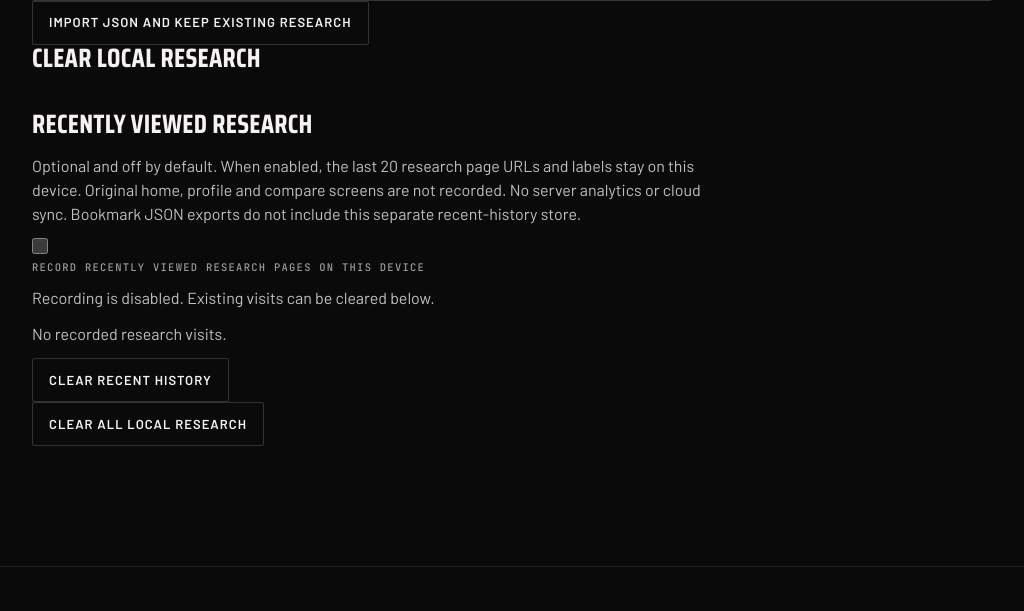
it: My NBA preferences journey › requires local history opt-in and clears all history/consent with confirmed local reset
(page scrolled)
What coordinates should you click on to do the following:
click the checkbox labelled "Record recently viewed research pages on this device"
I would click on:
 (40, 246)
Its box is [32,238,48,254].
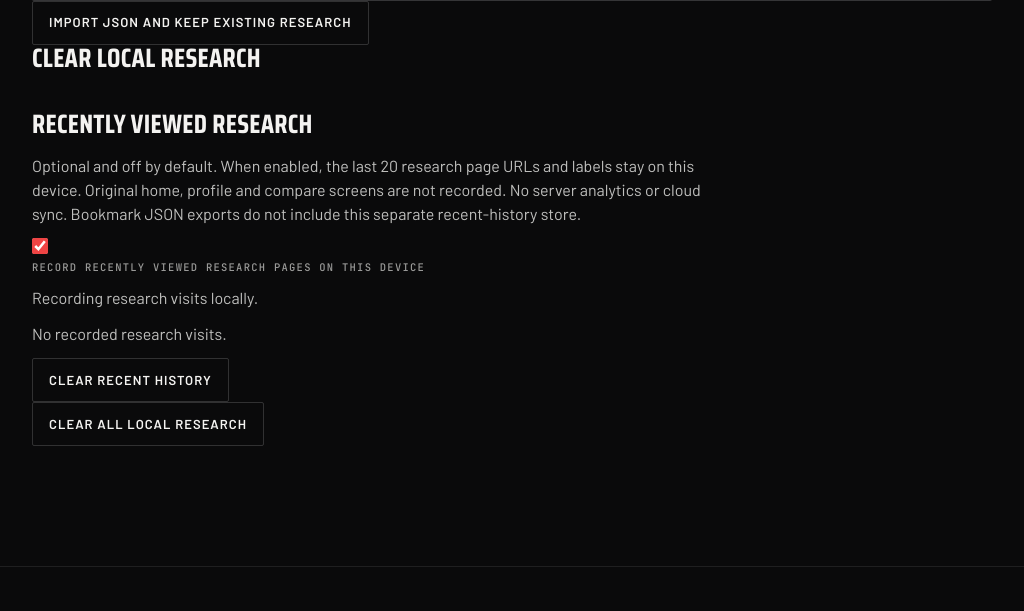
Check: the checkbox labelled "Record recently viewed research pages on this device" is checked, box [32,238,48,254]
What coordinates should you click on to do the following:
click the button "Clear all local research"
I would click on:
 (148, 424)
Its box is [32,402,264,446].
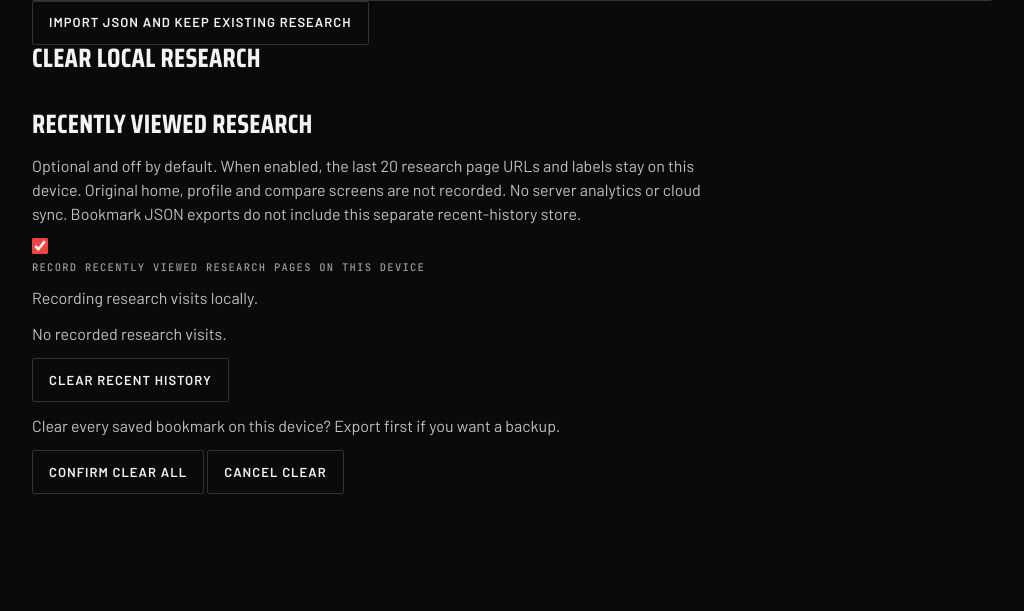
What coordinates should you click on to do the following:
click the button "Confirm clear all"
I would click on:
 (118, 472)
Its box is [32,450,204,494].
(page scrolled)
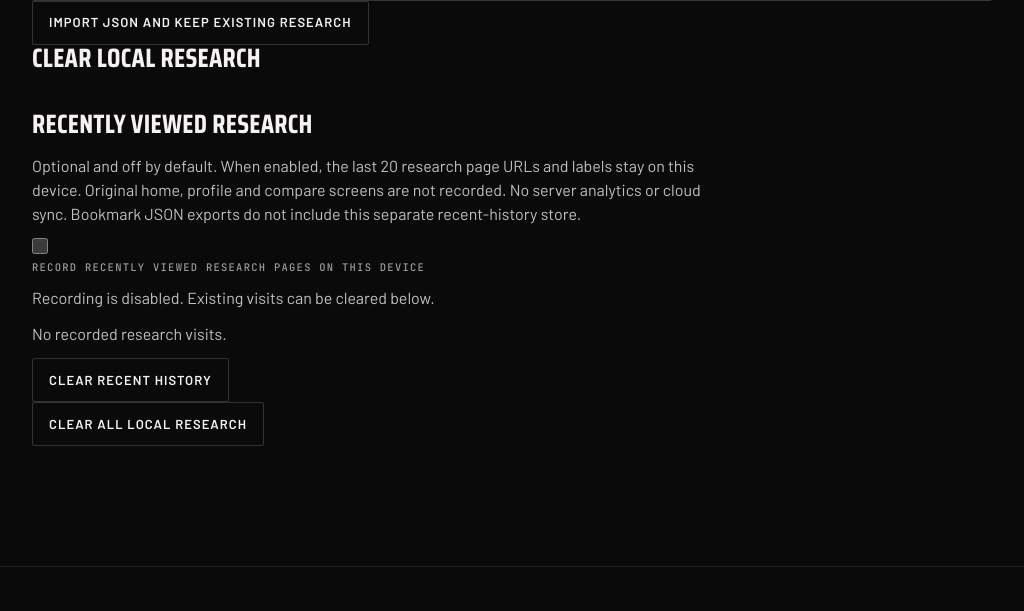
Check: the checkbox labelled "Record recently viewed research pages on this device" is not checked, box [32,238,48,254]
